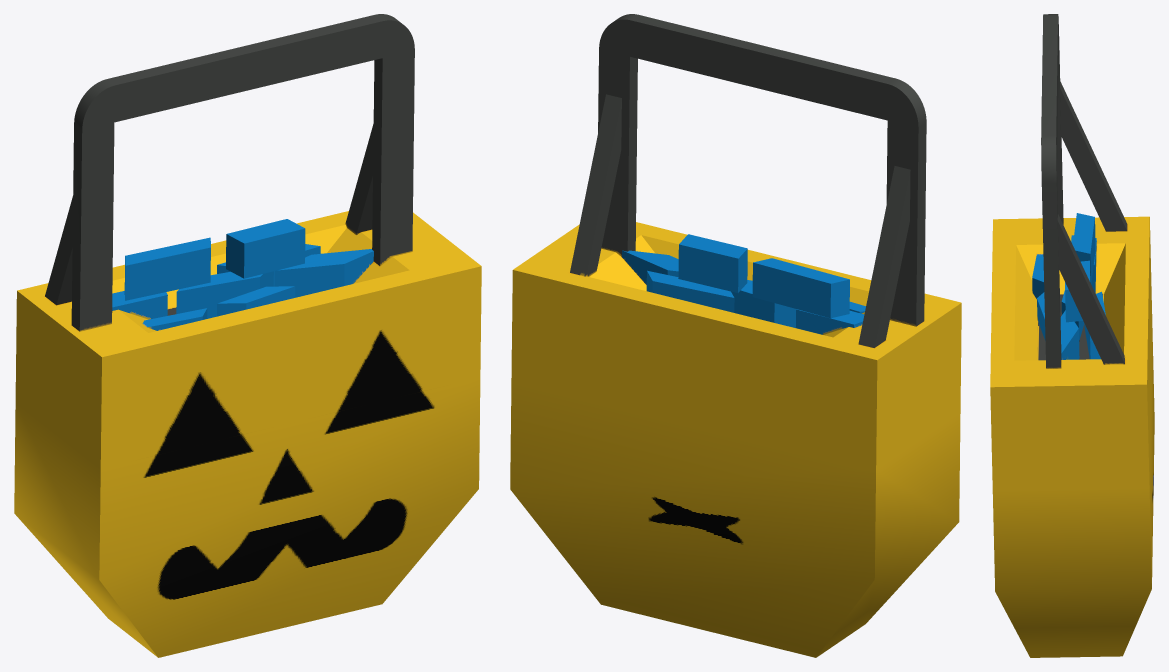
The model's file is pumpkinbucket.fbx.
3 renders of one model, left to right at view 1: azimuth 30°, elevation 25°; view 2: azimuth 150°, elevation 25°; view 3: azimuth 270°, elevation 25°, orthographic. The views are drawn at different scales.
Parts seen in each view (by area): view 1: node_id9.001, node_id9, node_id5, node_id7; view 2: node_id9.001, node_id9, node_id5, node_id7; view 3: node_id9, node_id9.001, node_id5, node_id7, node_id9.002.
Part boxes in pixels (box(x1,y1,x2,y2)): node_id9.001: box(14, 377, 480, 657); node_id9: box(15, 211, 481, 468); node_id5: box(45, 14, 414, 331); node_id7: box(112, 219, 373, 330); node_id9.001: box(510, 379, 960, 657); node_id9: box(511, 222, 961, 469); node_id5: box(570, 14, 926, 347); node_id7: box(622, 234, 865, 334); node_id9: box(990, 216, 1152, 489); node_id9.001: box(992, 326, 1154, 657); node_id5: box(1041, 14, 1127, 368); node_id7: box(1032, 213, 1105, 359); node_id9.002: box(1037, 293, 1103, 360).
Size of the model in its own units: 176 by 256 by 72.7.
